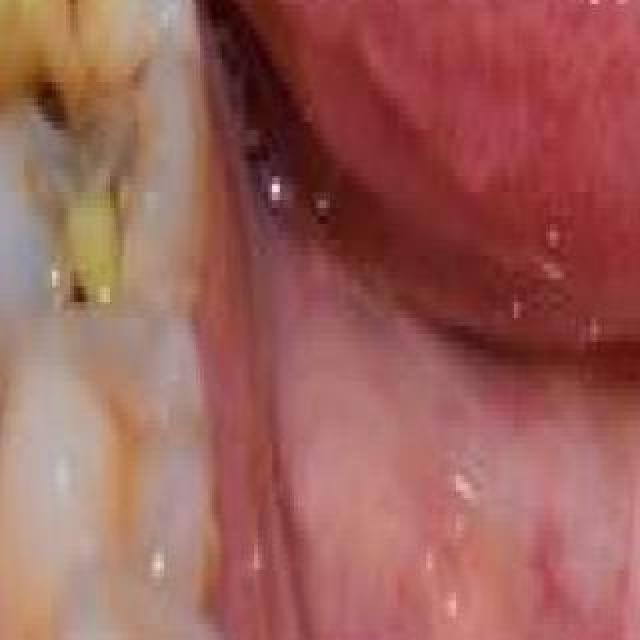cavities: (0, 0, 208, 338)
